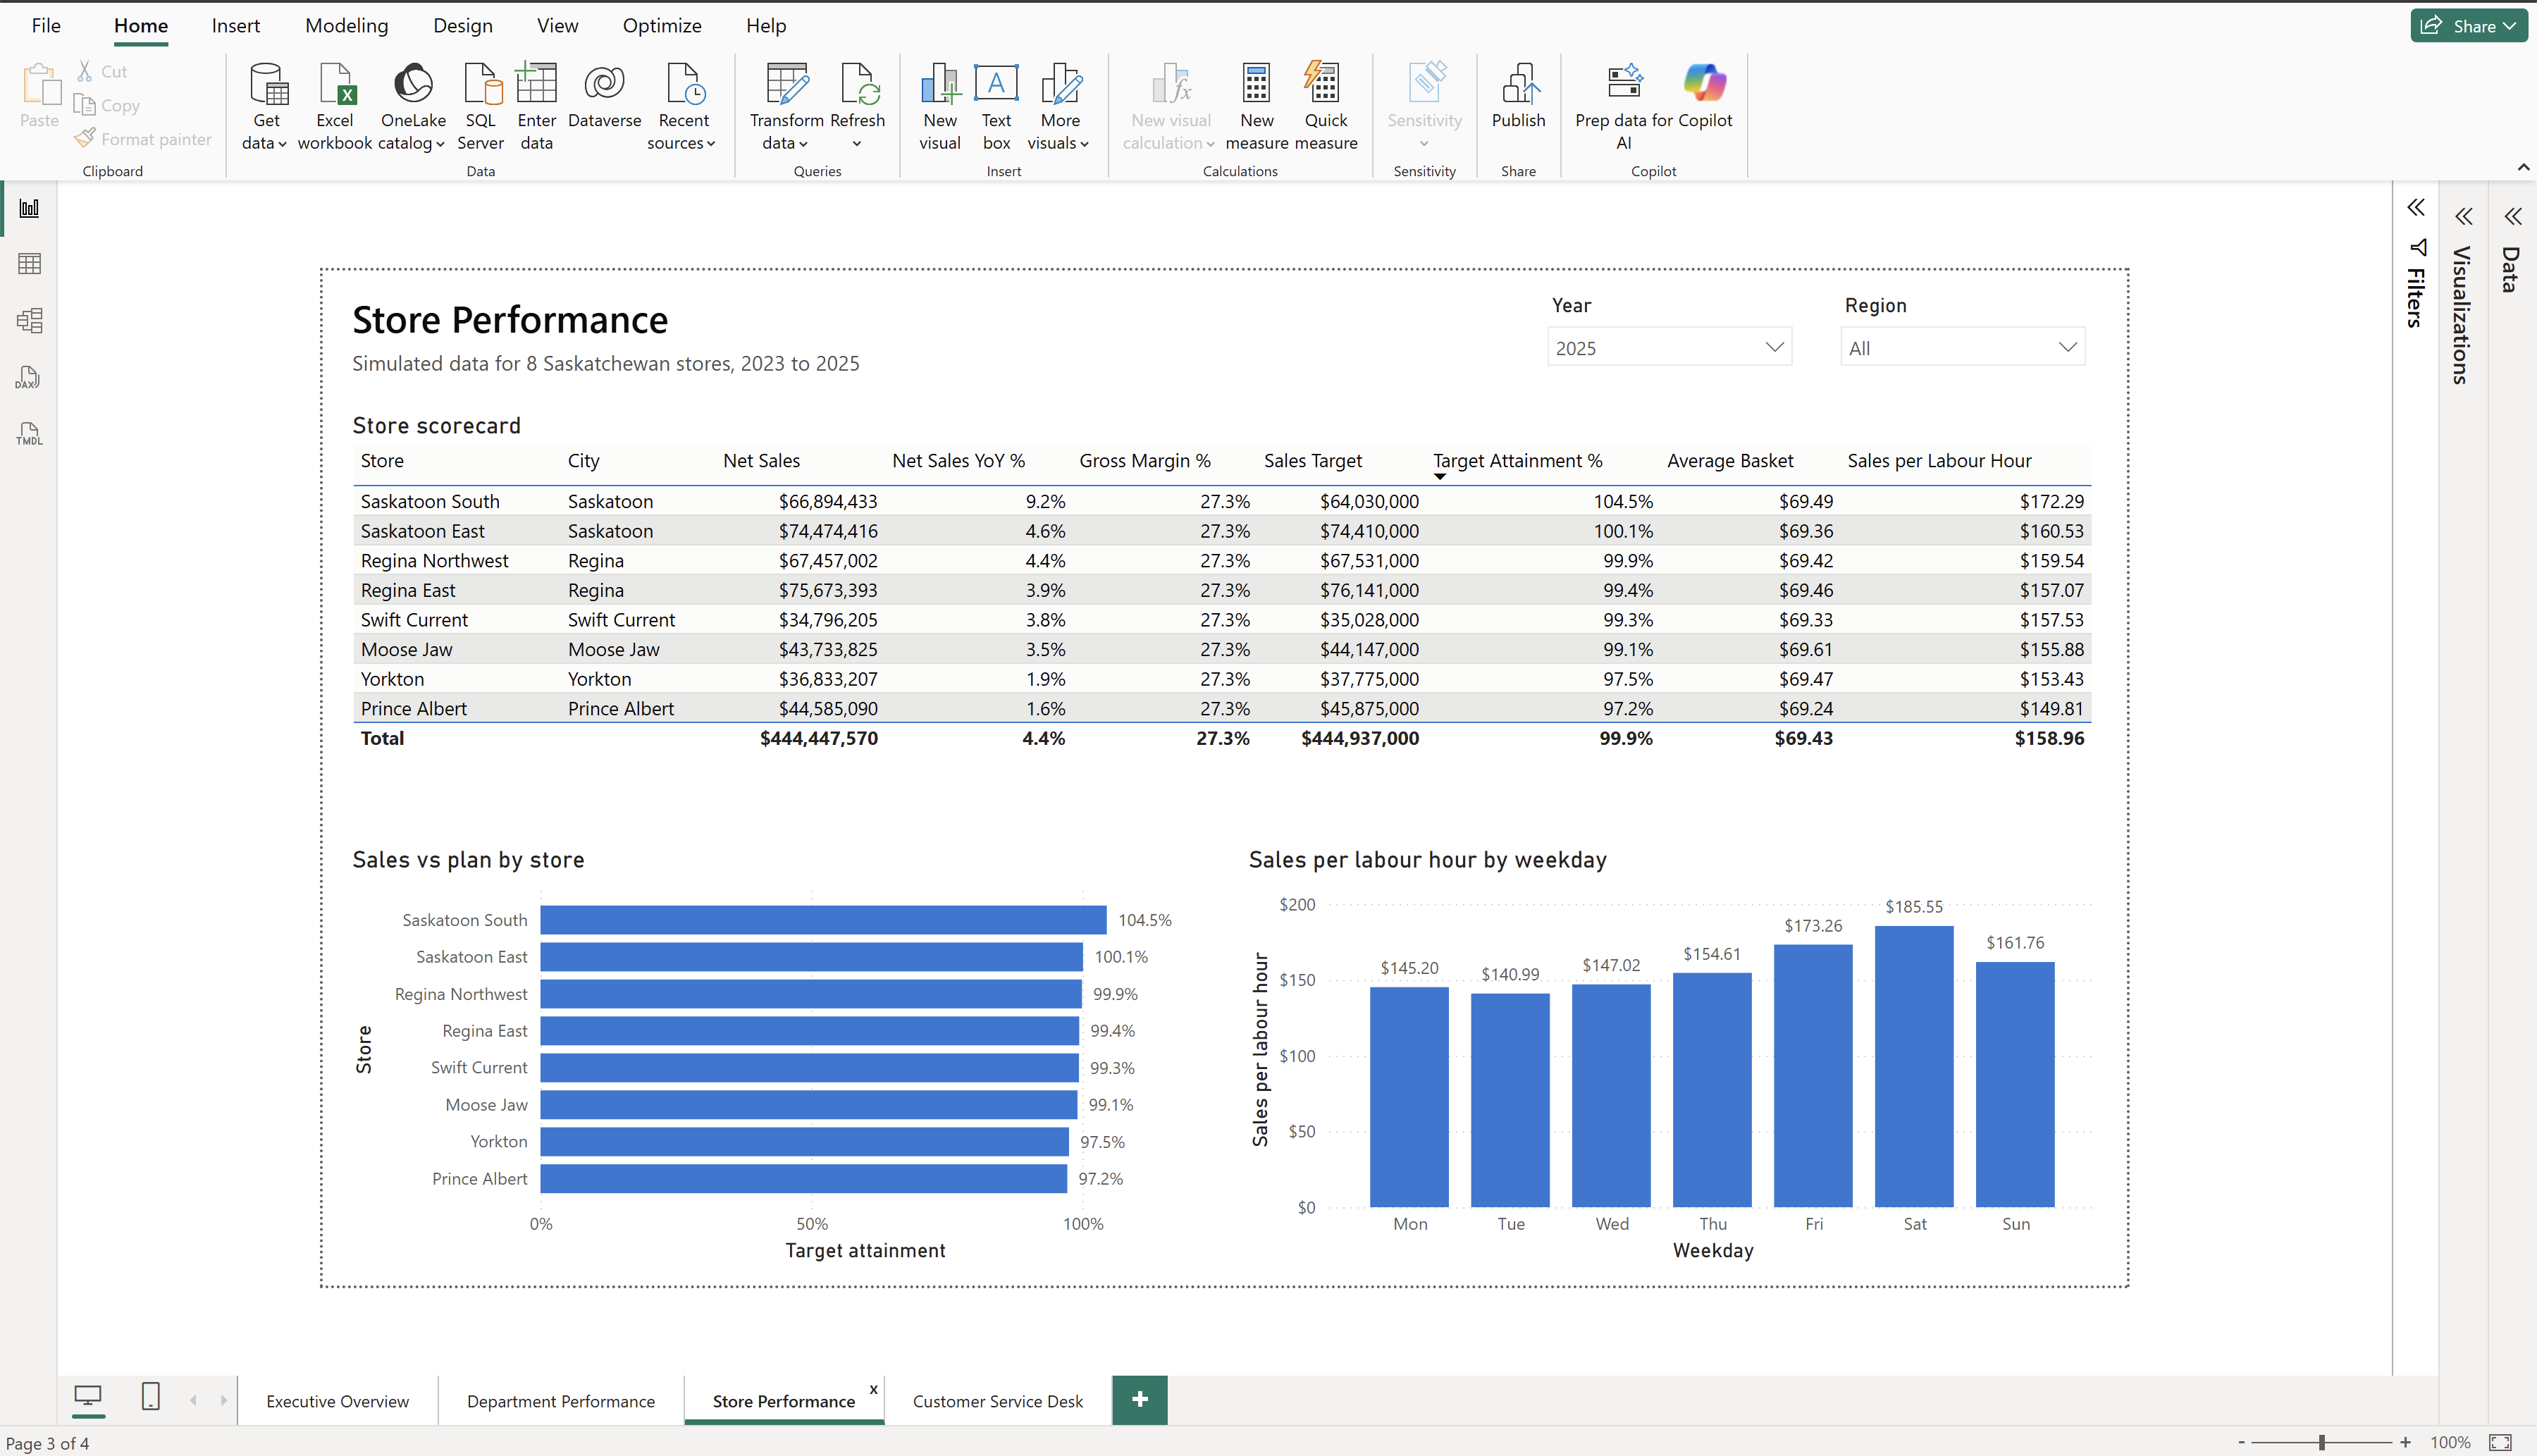

What the dashboard file says about the page in this screenshot:
{"tool":"powerbi","page":{"name":"Store Performance","canvas":[1280,720],"ordinal":2},"visuals":[{"type":"textbox","box":[16.3,10.3,600,50.6],"z":1000},{"type":"textbox","box":[16.3,49.7,600,37.7],"z":2000},{"type":"slicer","fields":{"Values":["dim_date.year"]},"box":[856,8,200,80],"z":3000},{"type":"slicer","fields":{"Values":["dim_store.region"]},"box":[1064,8,200,80],"z":4000},{"type":"tableEx","title":"Store scorecard","fields":{"Values":["dim_store.store_name","dim_store.city","_Measures.Net Sales","_Measures.Net Sales YoY %","_Measures.Gross Margin %","_Measures.Sales Target","_Measures.Target Attainment %","_Measures.Average Basket","_Measures.Sales per Labour Hour"]},"box":[16,100,1248,296],"z":5000},{"type":"clusteredBarChart","title":"Sales vs plan by store","fields":{"Category":["dim_store.store_name"],"Y":["_Measures.Target Attainment %"]},"box":[16,408,620,300],"z":6000},{"type":"clusteredColumnChart","title":"Sales per labour hour by weekday","fields":{"Category":["dim_date.day_name"],"Y":["_Measures.Sales per Labour Hour"]},"box":[652,408,612,300],"z":7000}]}

Visuals, with their boxes on the page's 1280x720 design canvas (x1, y1, x2, y2). These are canvas units, not pixel positions in the 2537x1456 screenshot, which may show the page scaled, cropped or inside an application window:
textbox: left=16, top=10, right=616, bottom=61
textbox: left=16, top=50, right=616, bottom=87
slicer - dim_date.year: left=856, top=8, right=1056, bottom=88
slicer - dim_store.region: left=1064, top=8, right=1264, bottom=88
"Store scorecard" tableEx: left=16, top=100, right=1264, bottom=396
"Sales vs plan by store" clusteredBarChart: left=16, top=408, right=636, bottom=708
"Sales per labour hour by weekday" clusteredColumnChart: left=652, top=408, right=1264, bottom=708
